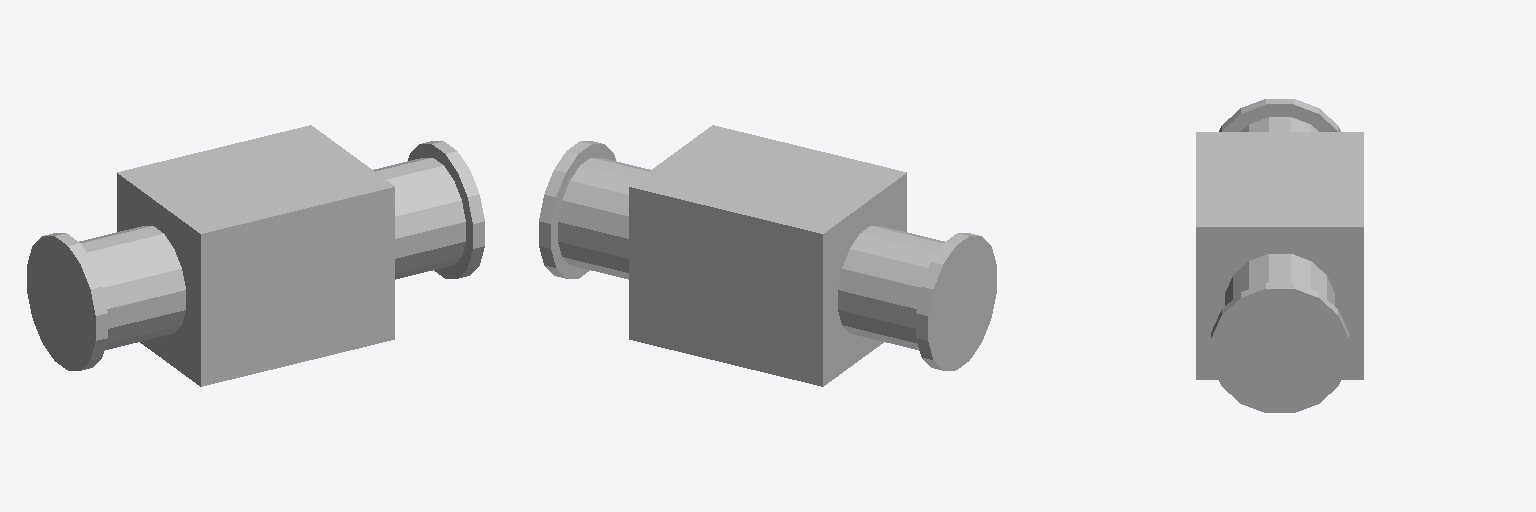
Rendered from pipeworks_flow_sensor.obj.
The picture shows the model from 3 angles: view 1: azimuth 30°, elevation 25°; view 2: azimuth 150°, elevation 25°; view 3: azimuth 270°, elevation 25°; orthographic projection.
Parts seen in each view (by area): view 1: Cube.001; view 2: Cube.001; view 3: Cube.001.
Part boxes in pixels (x1,y1,x2,y2): Cube.001: (27,125,484,386); Cube.001: (539,125,996,386); Cube.001: (1196,99,1363,412).
Size of the model in its own units: 1 by 0.375 by 0.375.